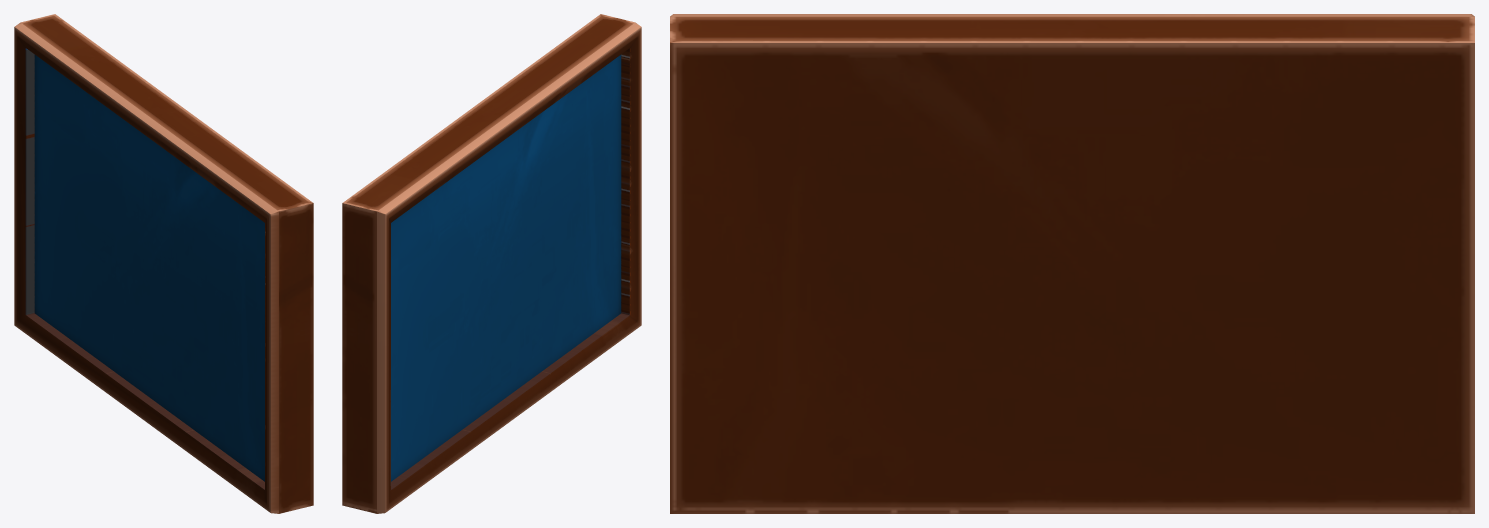
The model's file is RE_PropPainting.FBX.
The picture shows the model from 3 angles, left to right: view 1: azimuth 30°, elevation 25°; view 2: azimuth 150°, elevation 25°; view 3: azimuth 270°, elevation 25°; orthographic projection. The views are drawn at different scales.
Parts seen in each view (by area): view 1: RE_PropPainting; view 2: RE_PropPainting; view 3: RE_PropPainting.
Part boxes in pixels (x1,y1,x2,y2): RE_PropPainting: (14, 14, 313, 513); RE_PropPainting: (342, 14, 641, 513); RE_PropPainting: (670, 14, 1474, 513).
Size of the model in its own units: 5.94 by 40.53 by 62.74.
2 materials, 2 textured.
